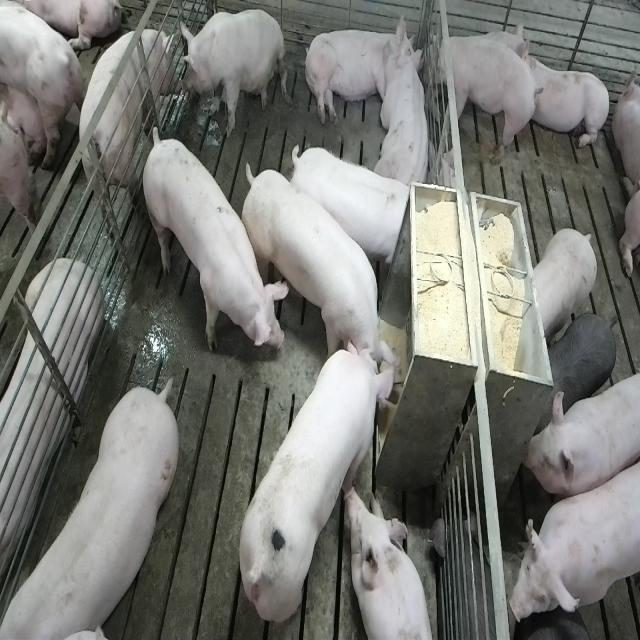Feeding: (236, 338, 400, 625), (240, 162, 401, 384)
Lateral_lying: (302, 11, 422, 128)
Sitting: (179, 8, 286, 138)
Standing: (0, 381, 176, 639), (139, 121, 281, 362), (508, 445, 638, 631), (80, 27, 181, 235), (287, 144, 415, 271), (523, 368, 637, 498), (432, 31, 537, 168), (0, 0, 81, 160), (530, 228, 598, 343), (546, 310, 616, 419), (510, 608, 610, 640)
Sternal_lying: (0, 261, 100, 598), (348, 483, 438, 640), (524, 46, 611, 154), (377, 33, 434, 194), (481, 20, 531, 71)
